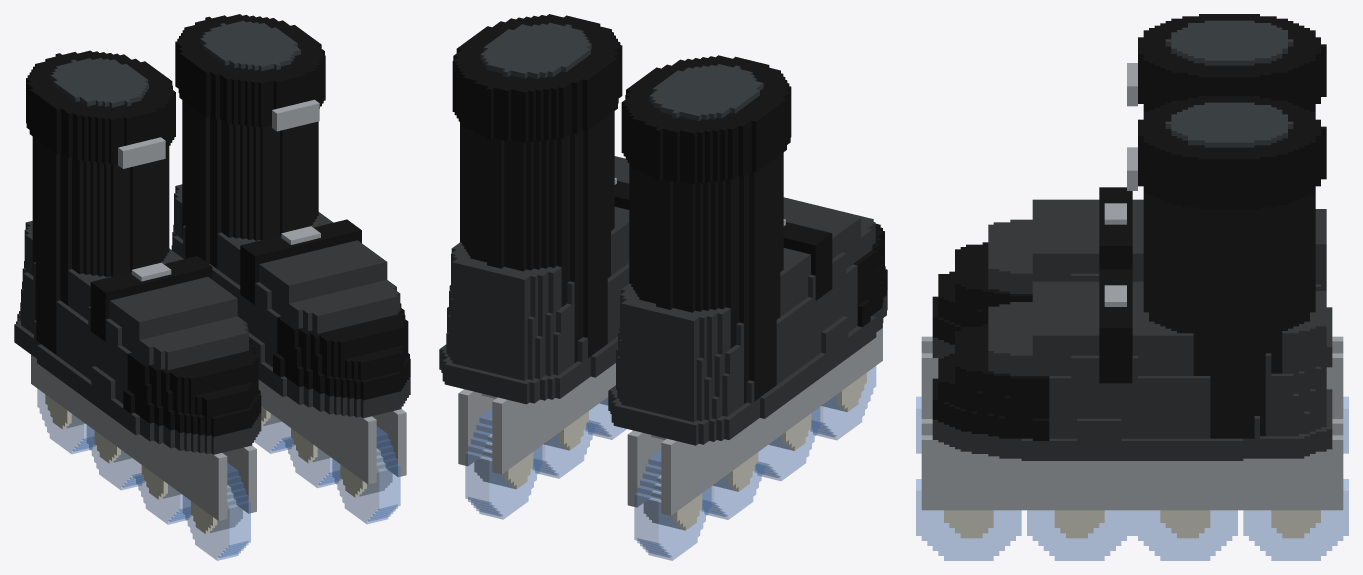
The model's file is inline_skates.glb.
3 renders of one model, left to right at view 1: azimuth 30°, elevation 25°; view 2: azimuth 150°, elevation 25°; view 3: azimuth 270°, elevation 25°, orthographic. The views are drawn at different scales.
Visible parts, largest first — view 1: inline_skates:compound; view 2: inline_skates:compound; view 3: inline_skates:compound.
Part boxes in pixels (box(x1,y1,x2,y2)): inline_skates:compound: box(14, 14, 410, 560); inline_skates:compound: box(439, 14, 887, 560); inline_skates:compound: box(916, 14, 1348, 560).
Size of the model in its own units: 0.248 by 0.344 by 0.312.
